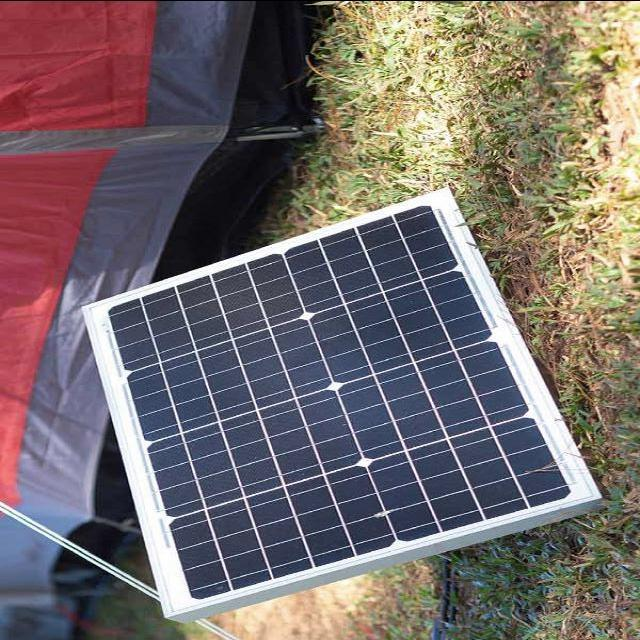no faulty: (113, 208, 573, 593)
